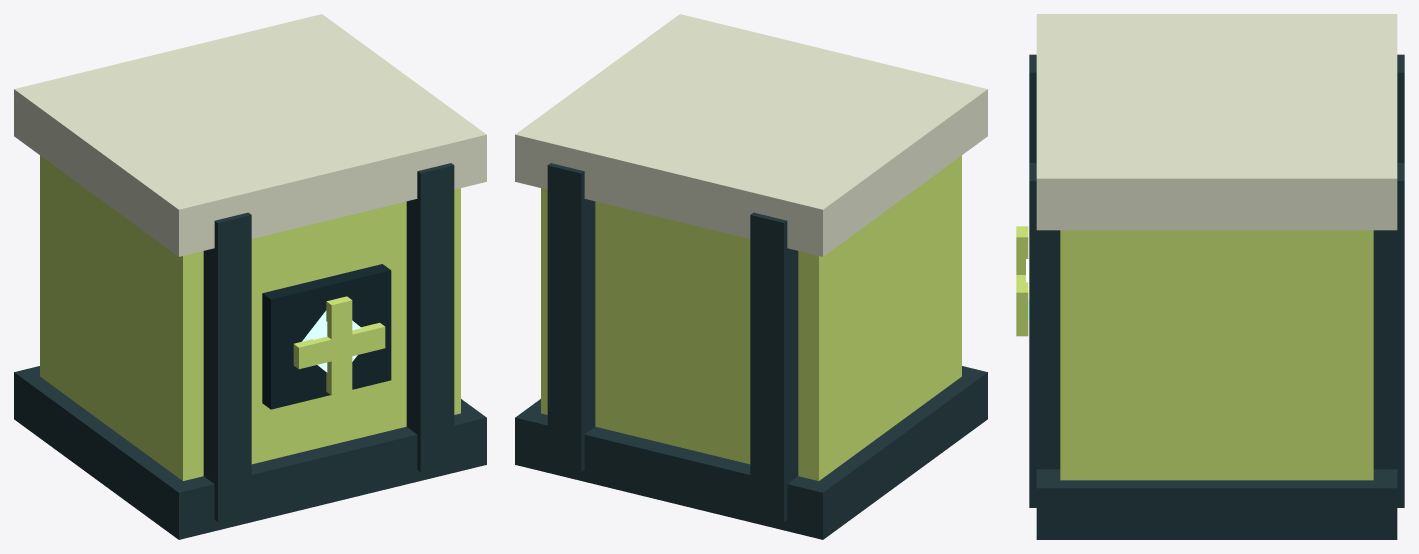
File: upgrade-crate.glb
The picture shows the model from 3 angles, left to right: view 1: azimuth 30°, elevation 25°; view 2: azimuth 150°, elevation 25°; view 3: azimuth 270°, elevation 25°; orthographic projection. The views are drawn at different scales.
Parts seen in each view (by area): view 1: lid, body, base, strap-1, strap--1, upgrade-panel, upgrade-bar, upgrade-stem; view 2: body, lid, base, strap-1, strap--1; view 3: body, lid, base, strap-1, strap--1, upgrade-stem, upgrade-bar.
Part boxes in pixels (bbox=[...]): lid: bbox=[14, 14, 486, 256]; body: bbox=[40, 155, 460, 480]; base: bbox=[14, 366, 486, 539]; strap-1: bbox=[406, 163, 454, 472]; strap--1: bbox=[203, 212, 251, 521]; upgrade-panel: bbox=[262, 264, 391, 409]; upgrade-bar: bbox=[293, 322, 385, 369]; upgrade-stem: bbox=[326, 296, 352, 395]; body: bbox=[541, 155, 961, 480]; lid: bbox=[515, 14, 987, 256]; base: bbox=[515, 366, 987, 539]; strap-1: bbox=[547, 163, 595, 472]; strap--1: bbox=[750, 212, 798, 521]; body: bbox=[1060, 230, 1373, 480]; lid: bbox=[1036, 14, 1397, 230]; base: bbox=[1036, 469, 1397, 539]; strap-1: bbox=[1029, 163, 1404, 507]; strap--1: bbox=[1029, 54, 1404, 162]; upgrade-stem: bbox=[1016, 226, 1028, 336]; upgrade-bar: bbox=[1016, 275, 1028, 316].
Bounding box in the file's own units: 0.82 × 0.84 × 0.8175.
